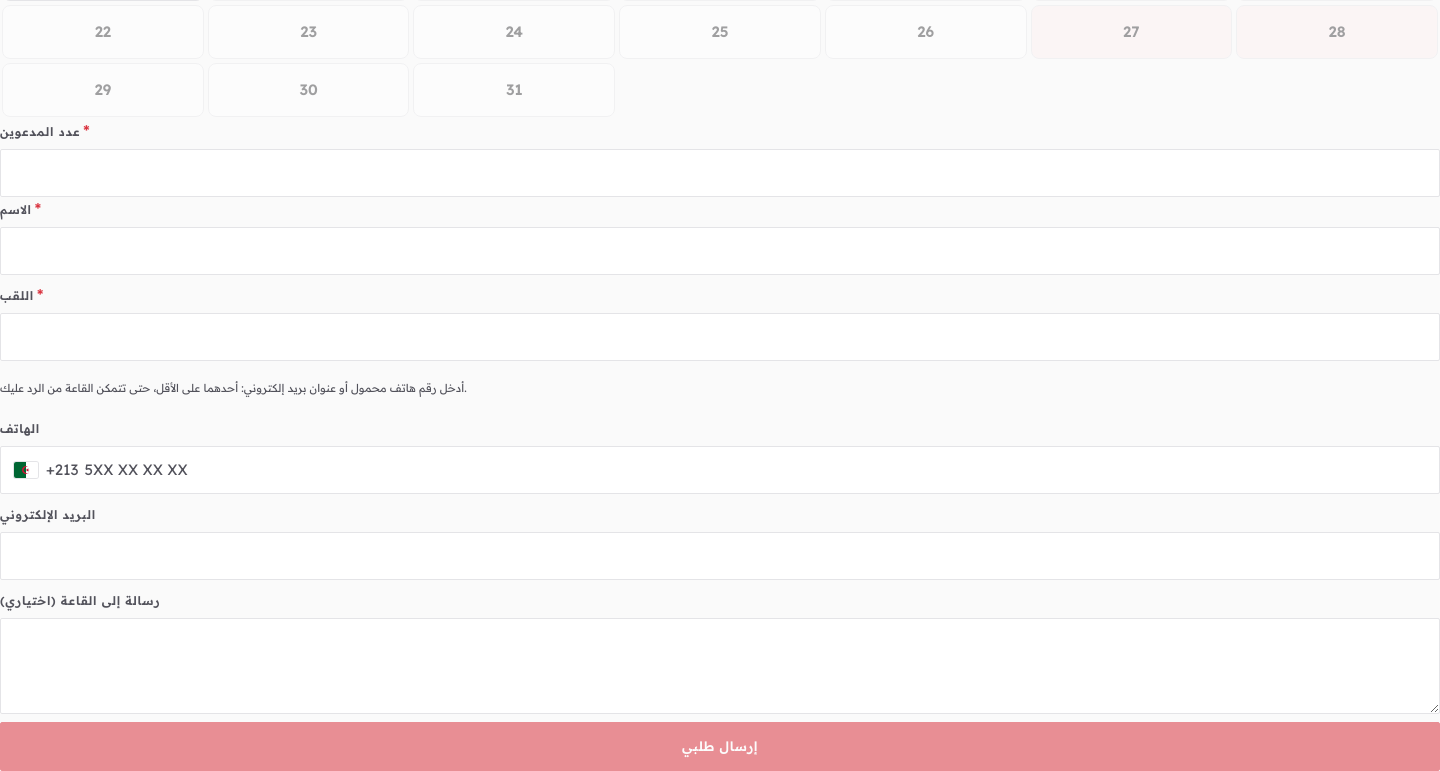
Test: ⛔ Demande de réservation — un numéro OU une adresse e-mail (L36-1) › ML-7 — EN ARABE : le texte « l'un des deux » et le message d'e-mail invalide existent, sont différents du français, et s'affichent
(page scrolled)
Expected: the text "أدخل رقم هاتف محمول أو عنوان بريد إلكتروني: أحدهما على الأقل، حتى تتمكن القاعة من الرد عليك." is shown, [0, 380, 467, 394]
Type "amina@" into the field labelled "البريد الإلكتروني". click: (720,556)
box: [0, 532, 1439, 580]
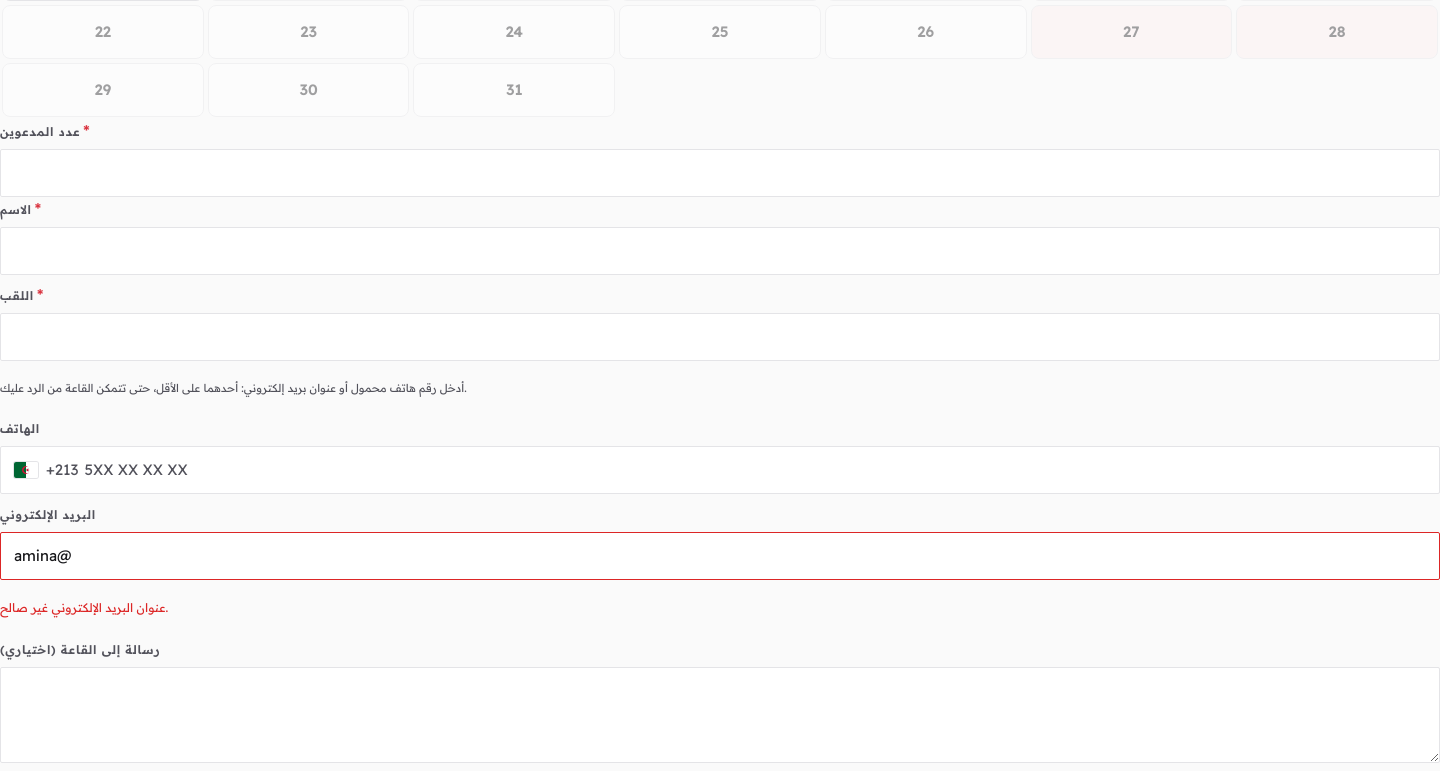
Expected: the text "عنوان البريد الإلكتروني غير صالح." is shown, [0, 600, 168, 615]
